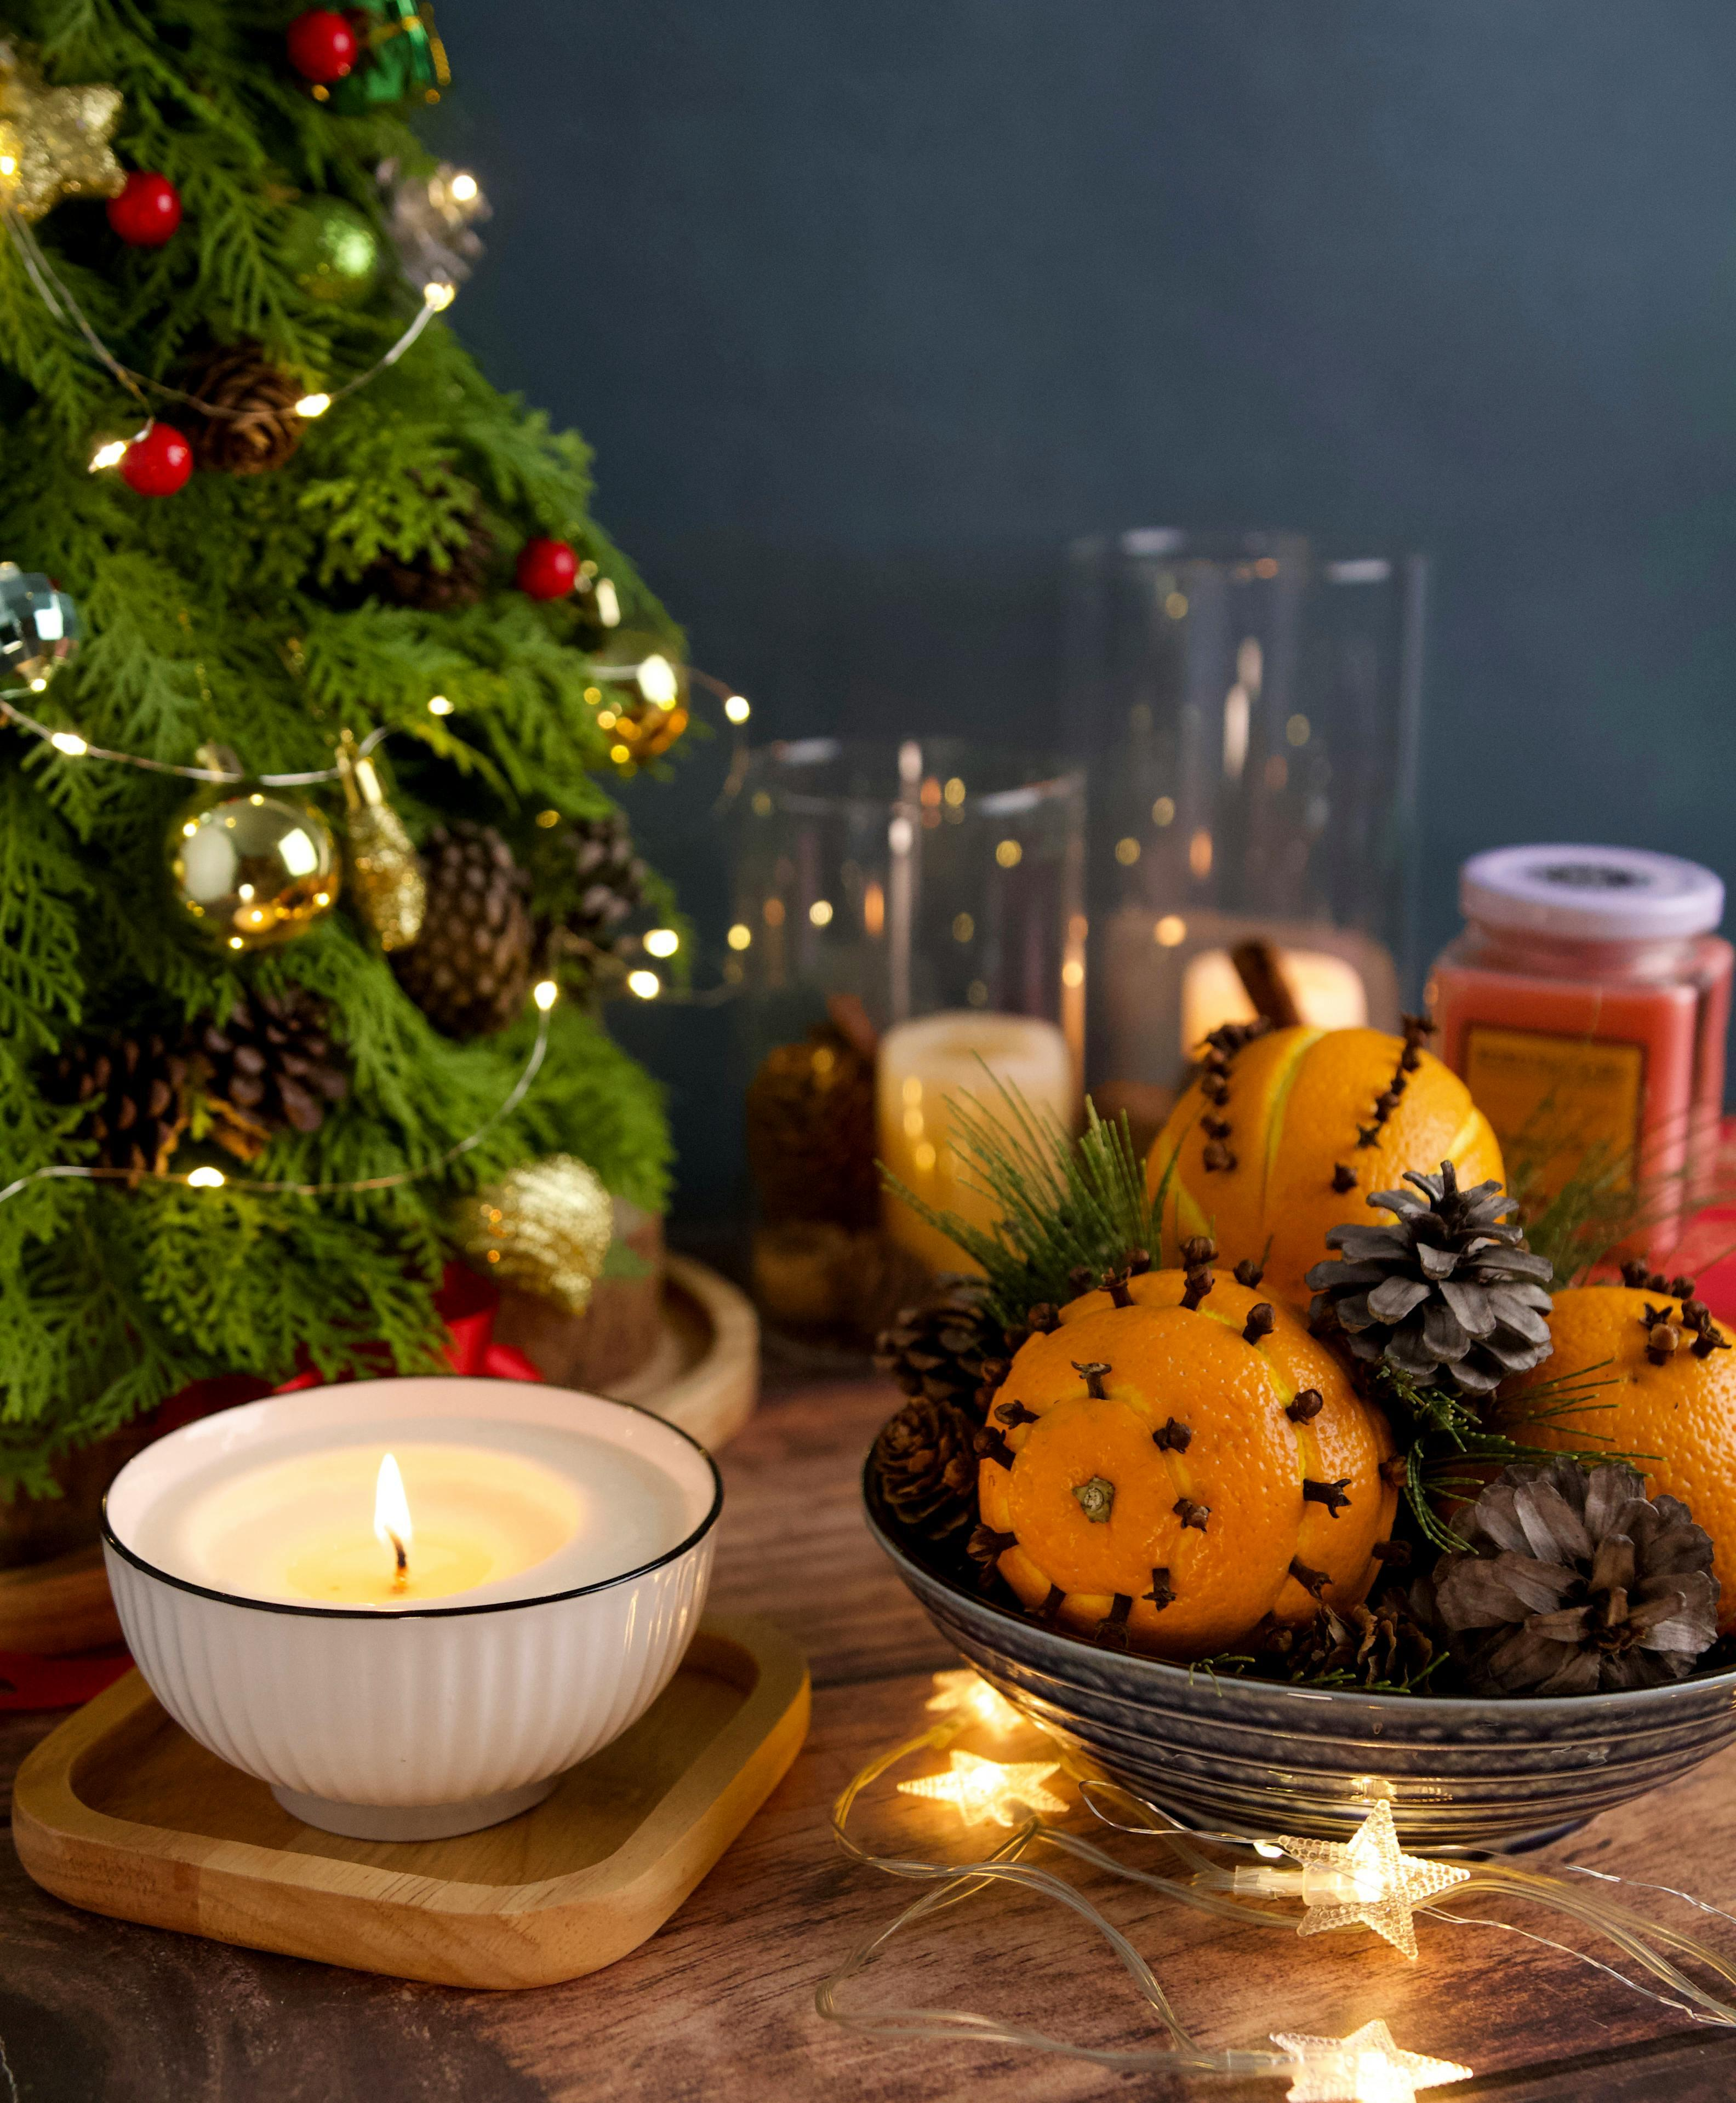Fire: (358, 1431, 458, 1570)
